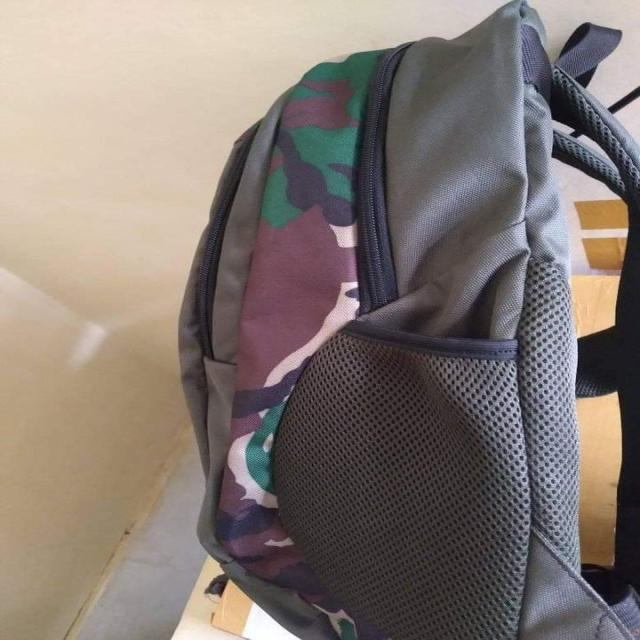bag: (185, 0, 637, 640)
